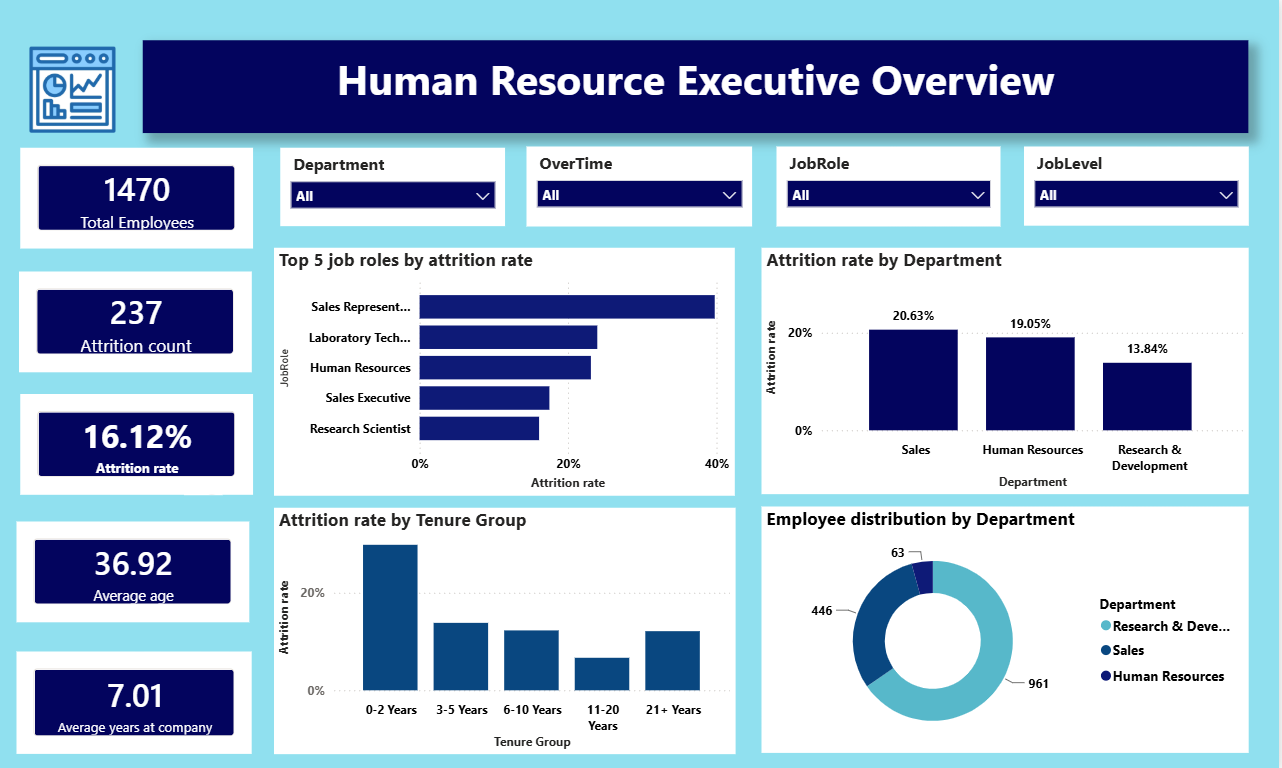

This screenshot's page, from the dashboard's own definition file:
{"tool":"powerbi","page":{"name":"Executive dashboard","canvas":[1280,771],"ordinal":0},"visuals":[{"type":"textbox","title":"Human Resource Executive Overview","box":[143.4,41.3,1105.9,93],"z":0},{"type":"image","box":[26.1,48,94.7,86.4],"z":1000},{"type":"slicer","fields":{"Values":["employees.Department"]},"box":[281.3,148.2,225,78.2],"z":2000},{"type":"slicer","fields":{"Values":["employees.JobRole"]},"box":[777.3,147.2,224.2,79.8],"z":3000},{"type":"slicer","fields":{"Values":["employees.OverTime"]},"box":[526.9,147.2,225.6,79.8],"z":4000},{"type":"cardVisual","fields":{"Data":["employees.Total Employees"]},"box":[20.7,148.6,232.5,100.8],"z":5000},{"type":"cardVisual","fields":{"Data":["employees.Employees Left"]},"box":[19.4,272.6,232.5,100.8],"z":6000},{"type":"cardVisual","fields":{"Data":["employees.Average age"]},"box":[18.1,521.9,232.5,100.8],"z":7000},{"type":"cardVisual","fields":{"Data":["employees.Average years at company"]},"box":[18.1,652.4,235.1,102.1],"z":8000},{"type":"clusteredColumnChart","fields":{"Category":["employees.Department"],"Y":["employees.Attrition rate"]},"box":[762.2,249.3,487,246.8],"z":9000},{"type":"clusteredBarChart","title":"Top 5 job roles by attrition  rate","fields":{"Category":["employees.JobRole"],"Y":["employees.Attrition rate"]},"box":[275,248.8,460.7,247.6],"z":10000},{"type":"donutChart","title":"Employee distribution by Department","fields":{"Category":["employees.Department"],"Y":["Count(employees.EmployeeNumber)"]},"box":[762.2,507.7,487,246.8],"z":11000},{"type":"clusteredColumnChart","fields":{"Y":["employees.Attrition rate"],"Category":["employees.Tenure Group"]},"box":[275.2,509,461.2,246.8],"z":12000},{"type":"image","box":[184.7,465.1,38.8,31],"z":16000},{"type":"cardVisual","fields":{"Data":["employees.Attrition rate"]},"box":[20.7,395.3,232.5,100.8],"z":17000},{"type":"slicer","fields":{"Values":["employees.JobLevel"]},"box":[1024.5,147.3,224.8,78.8],"z":18000}]}

Visuals, with their boxes in screenshot pixels (x1, y1, x2, y2), scaled from the page's 1280x771 canvas onto the 1282x768 screenshot:
"Human Resource Executive Overview" textbox: bbox=(144, 41, 1251, 134)
image: bbox=(26, 48, 121, 134)
slicer - employees.Department: bbox=(282, 148, 507, 226)
slicer - employees.JobRole: bbox=(779, 147, 1003, 226)
slicer - employees.OverTime: bbox=(528, 147, 754, 226)
cardVisual - employees.Total Employees: bbox=(21, 148, 254, 248)
cardVisual - employees.Employees Left: bbox=(19, 272, 252, 372)
cardVisual - employees.Average age: bbox=(18, 520, 251, 620)
cardVisual - employees.Average years at company: bbox=(18, 650, 254, 752)
clusteredColumnChart - employees.Department x employees.Attrition rate: bbox=(763, 248, 1251, 494)
"Top 5 job roles by attrition  rate" clusteredBarChart: bbox=(275, 248, 737, 494)
"Employee distribution by Department" donutChart: bbox=(763, 506, 1251, 752)
clusteredColumnChart - employees.Attrition rate x employees.Tenure Group: bbox=(276, 507, 738, 753)
image: bbox=(185, 463, 224, 494)
cardVisual - employees.Attrition rate: bbox=(21, 394, 254, 494)
slicer - employees.JobLevel: bbox=(1026, 147, 1251, 225)
